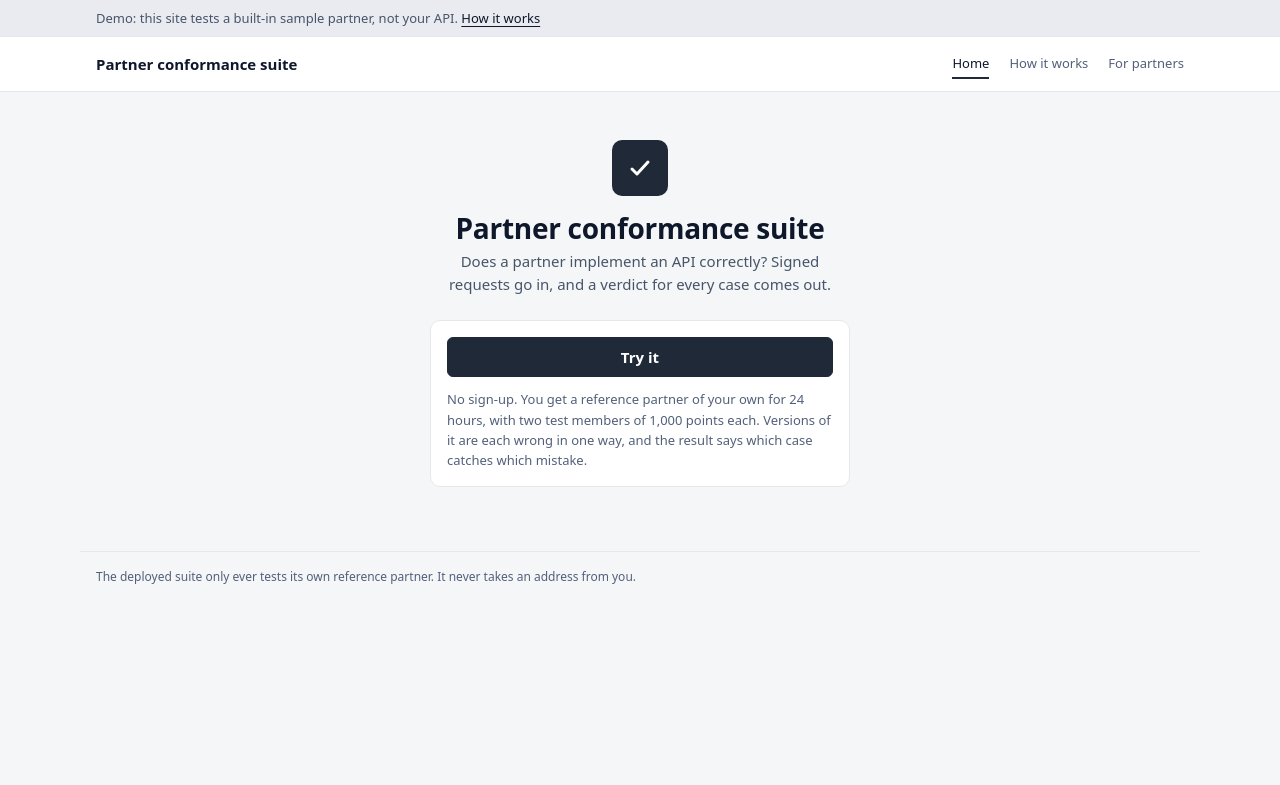
Test: the page between its answers › forgets a secret shown for the old session when a new one starts
The image size is (1280, 785).
Click the button "Try it". click: [640, 357]
box: [447, 337, 833, 377]
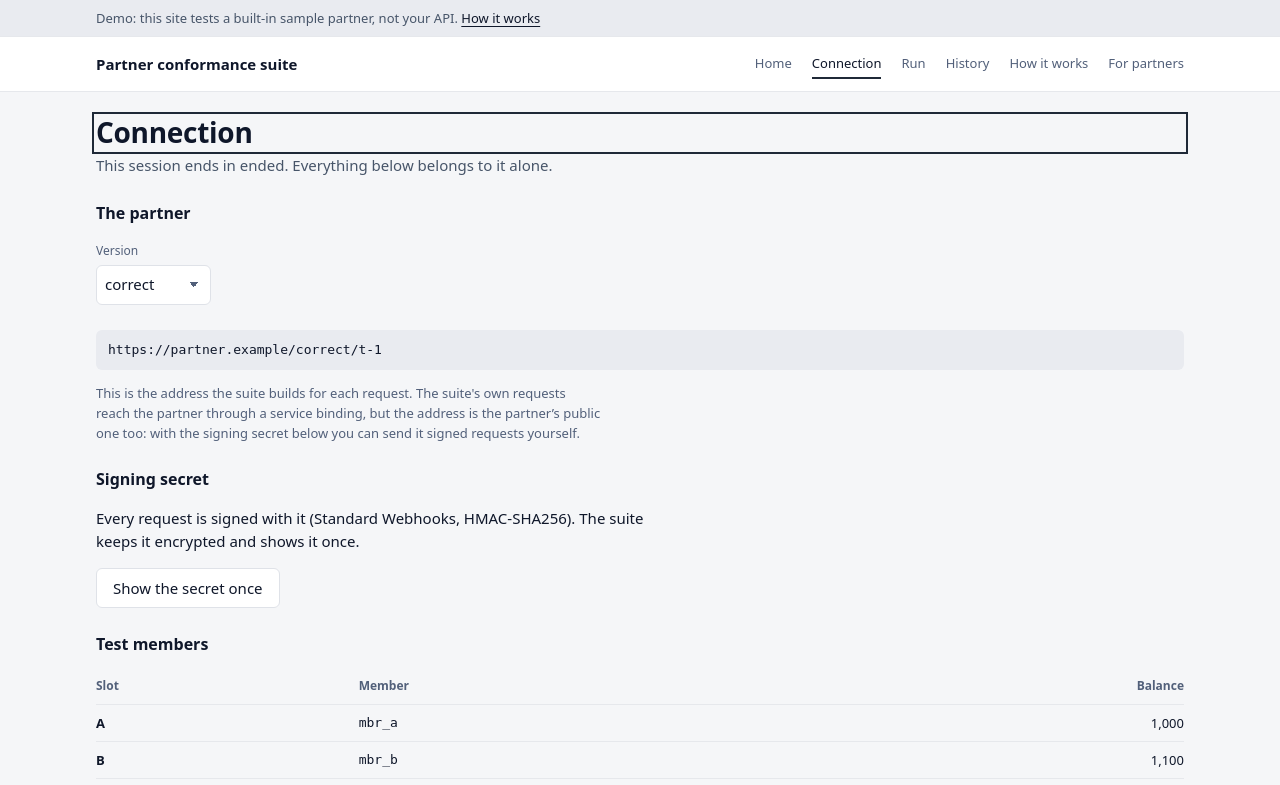
Expected: the heading "Connection" is shown, [96, 113, 252, 151]
Click the button "Show the secret once". click: [188, 588]
box: [96, 568, 280, 608]
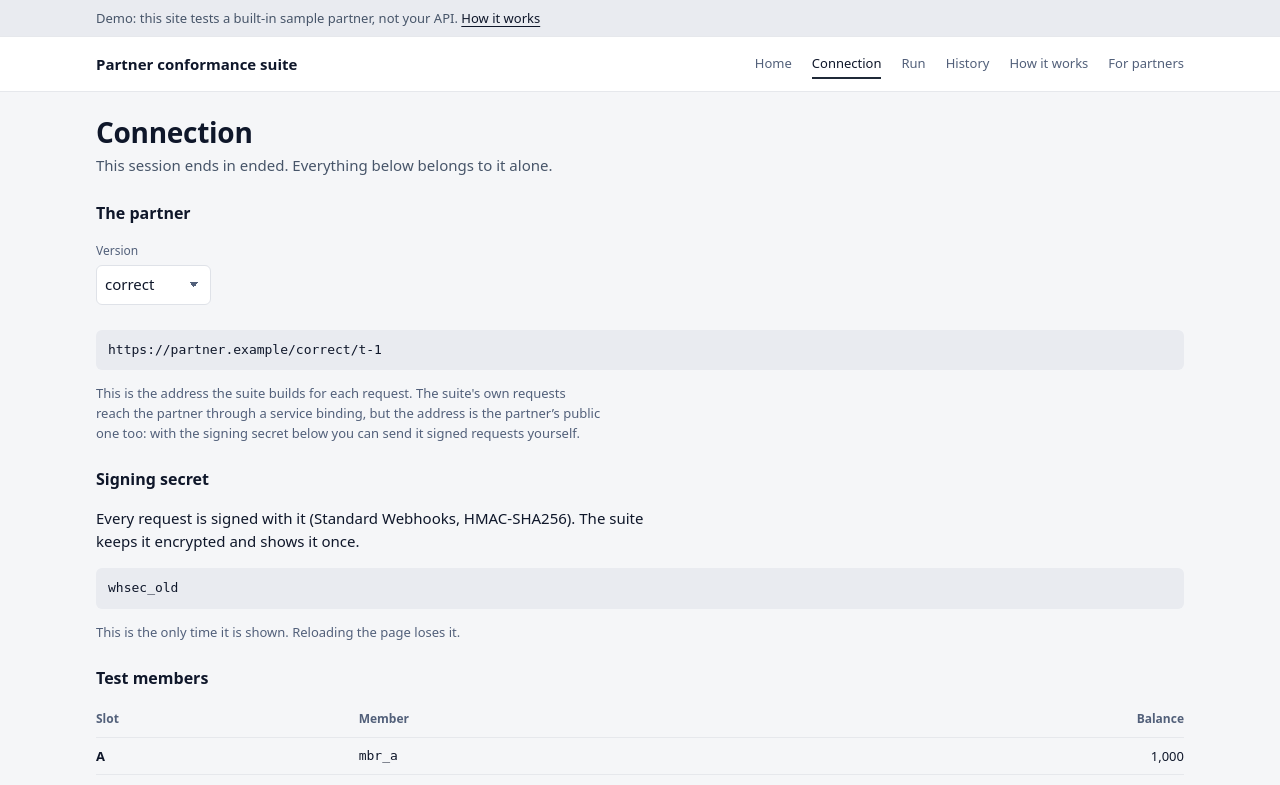
Expected: the text named "Signing secret" is shown, [96, 568, 1184, 608]
Click the link "Home". click: [773, 63]
box: [755, 54, 792, 72]
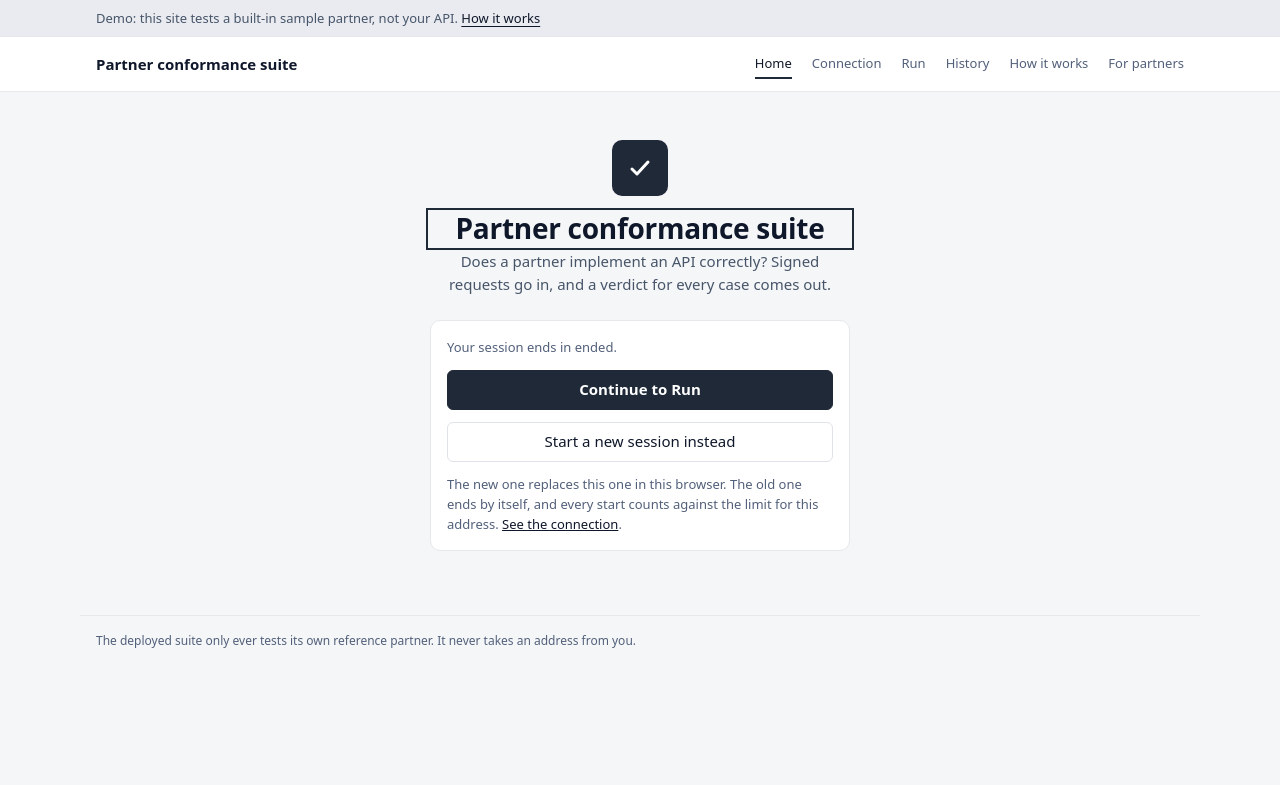
Click the button "Start a new session instead". click: [640, 442]
box: [447, 422, 833, 462]
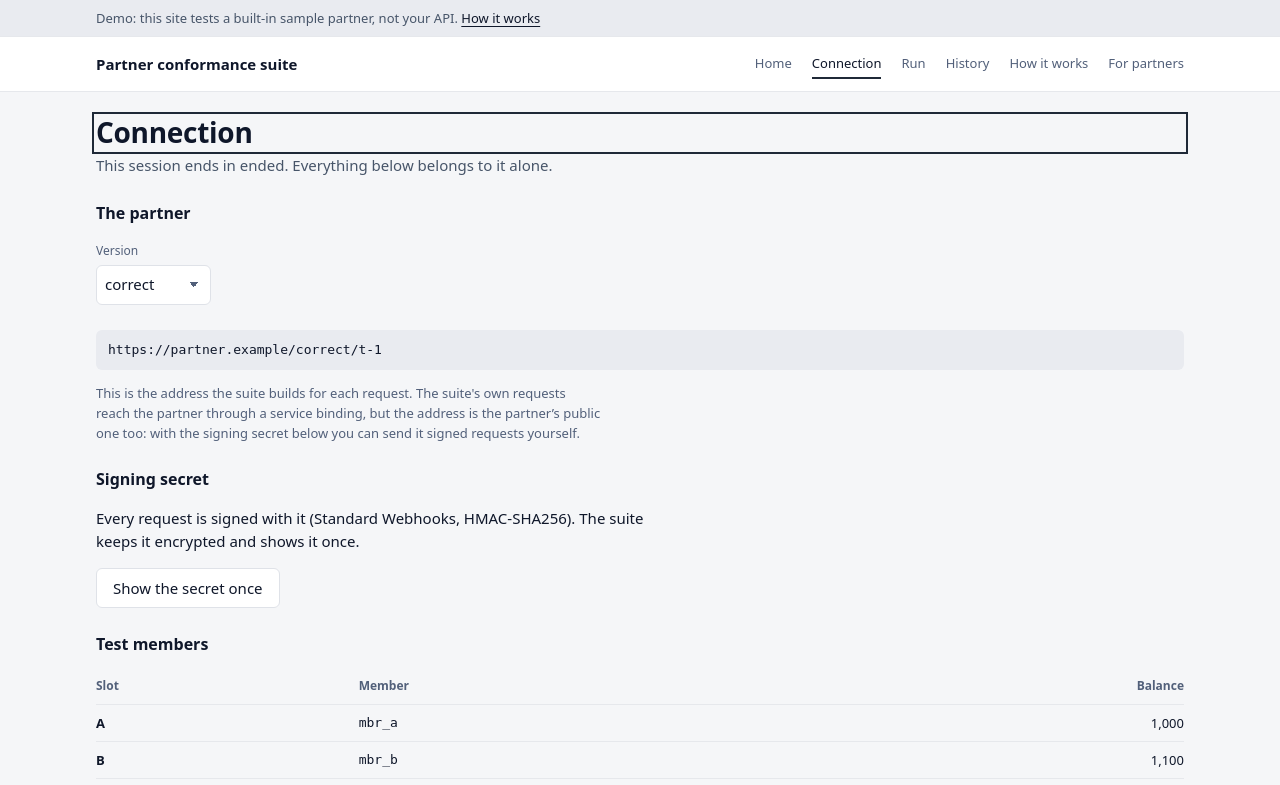
Expected: the heading "Connection" is shown, [96, 113, 252, 151]
Expected: the button "Show the secret once" is shown, [96, 568, 280, 608]
